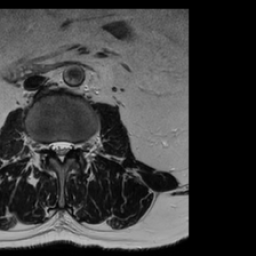CCS_normal: (57, 133, 65, 167)
LFS_stenosis: (73, 136, 80, 156)
LLS_normal: (65, 135, 72, 160)
RFS_stenosis: (42, 138, 50, 156)
RLS_normal: (50, 135, 58, 160)
